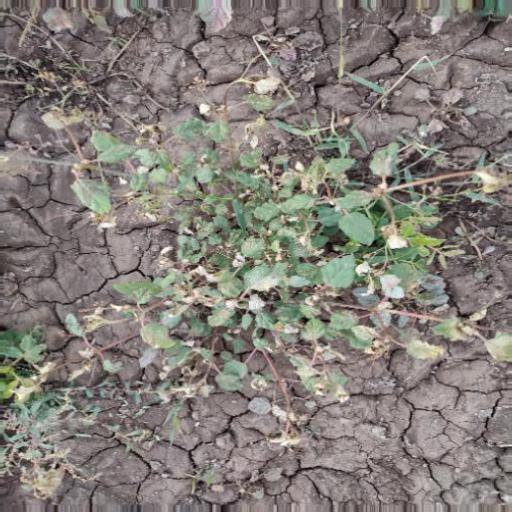weed: (102, 120, 468, 415)
